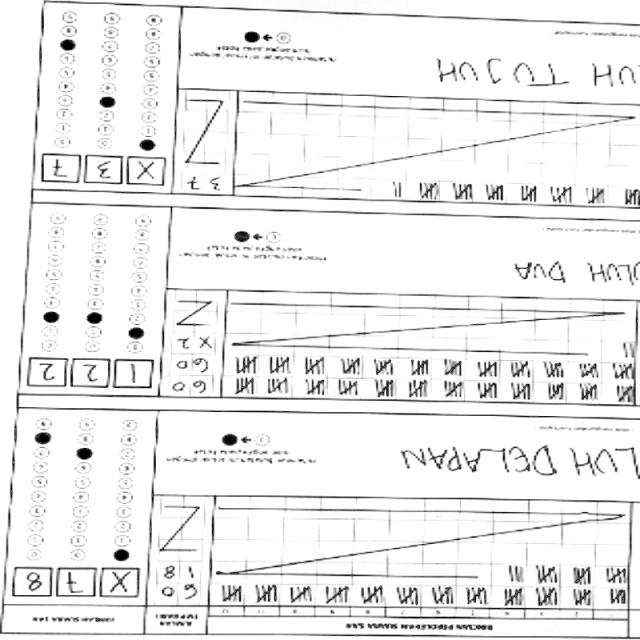Suara: (10, 560, 142, 602), (28, 357, 156, 398), (38, 152, 166, 190)
